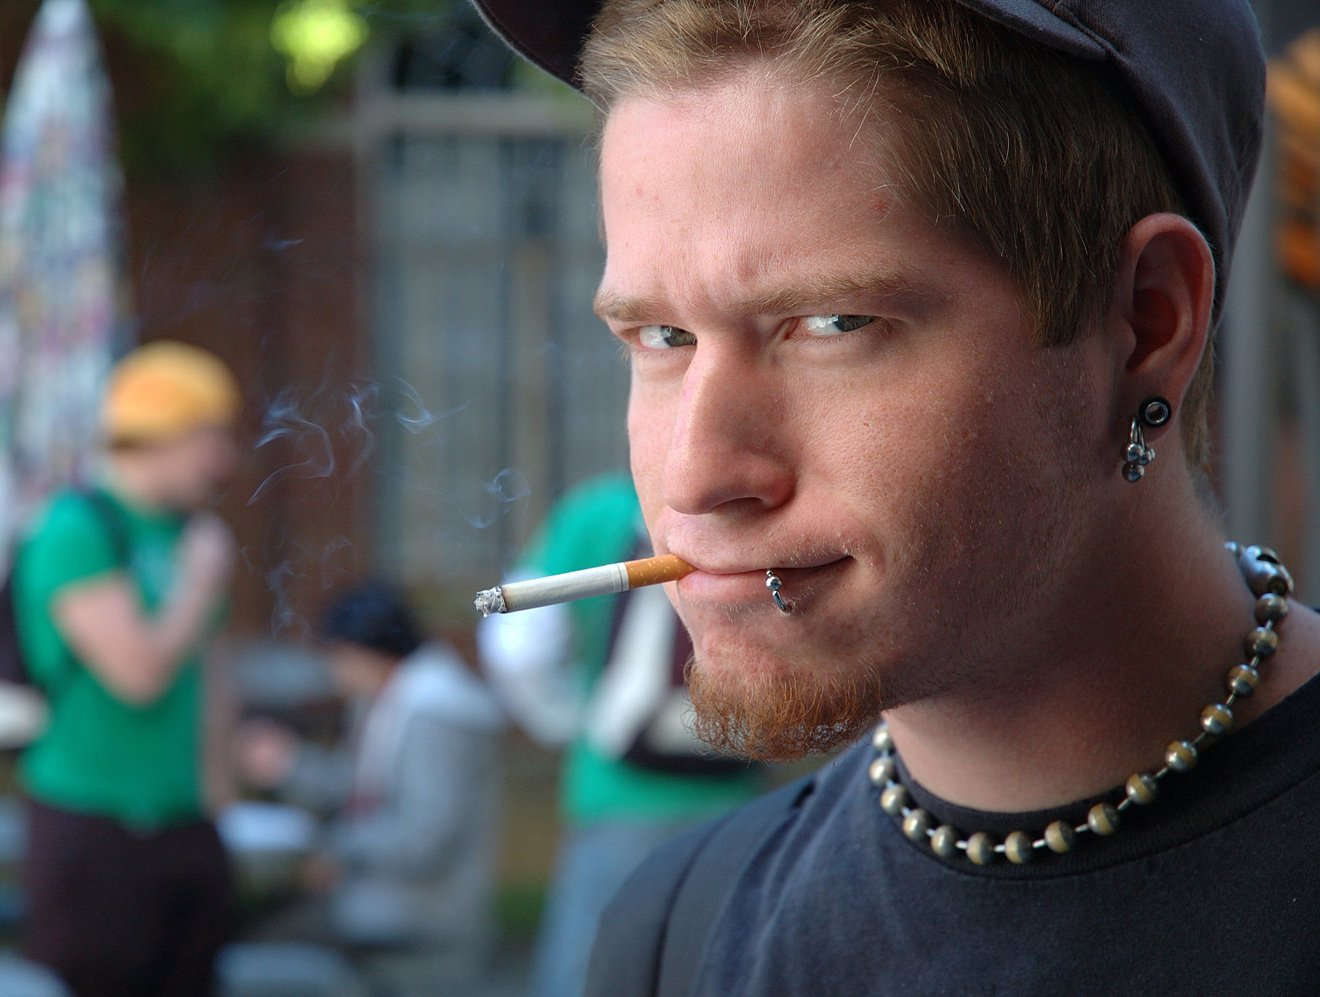cigarette: (474, 550, 688, 618)
